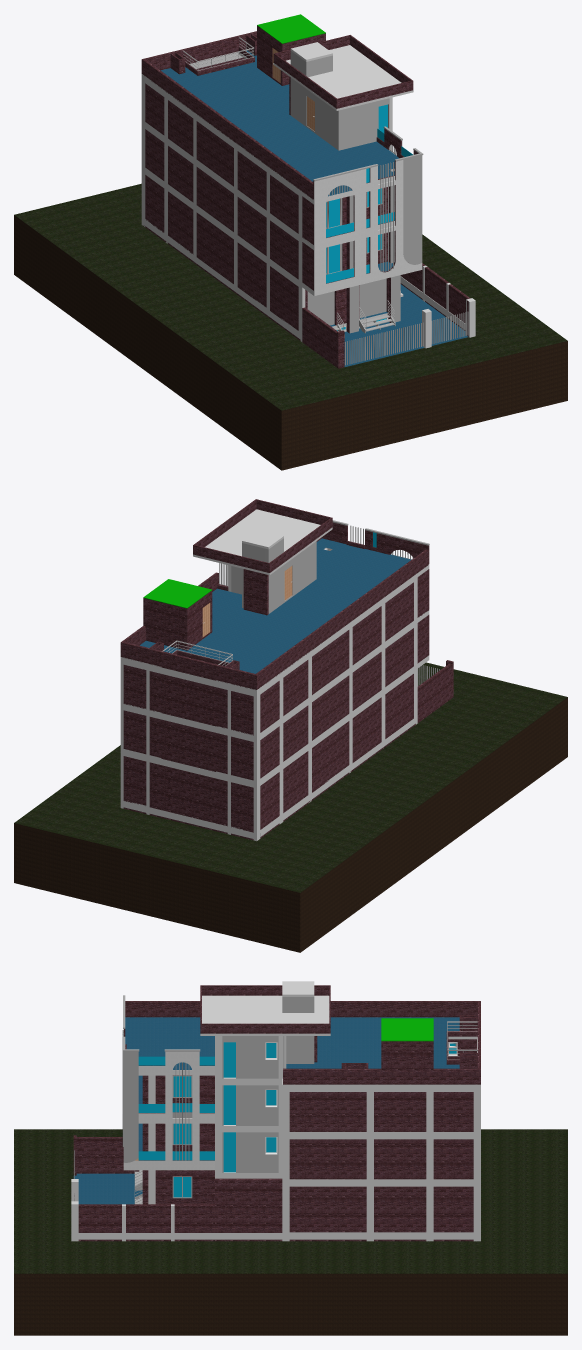
The model's file is house.glb.
The picture shows the model from 3 angles, top to bottom: view 1: azimuth 30°, elevation 25°; view 2: azimuth 150°, elevation 25°; view 3: azimuth 270°, elevation 25°; orthographic projection. The views are drawn at different scales.
Size of the model in its own units: 21 by 19.5 by 34.
11 materials, 11 textured.
